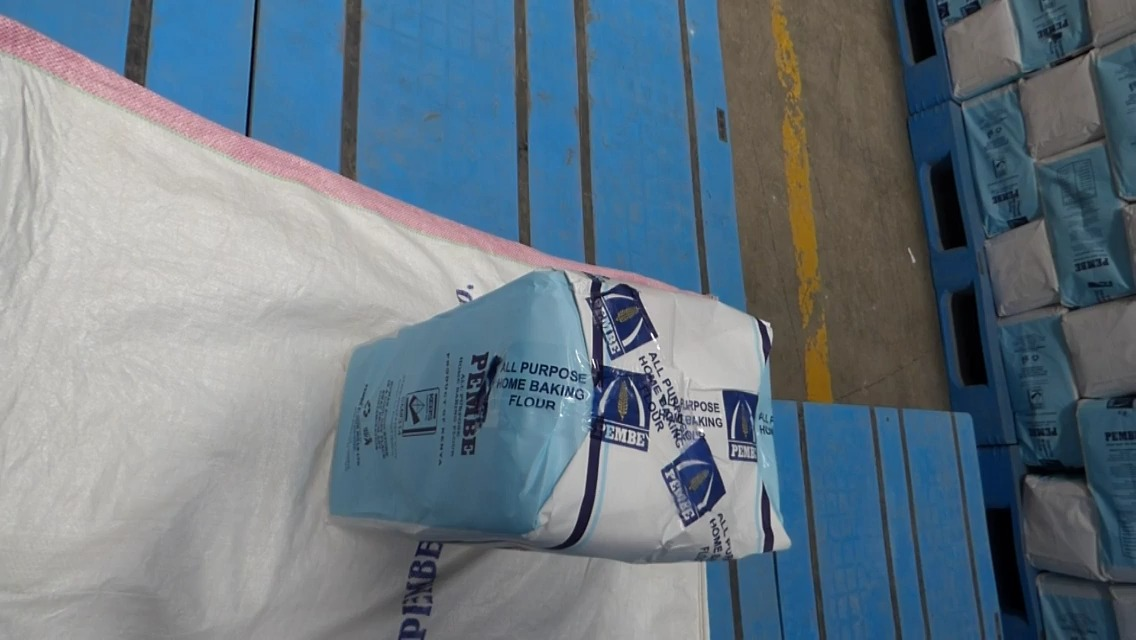wheat_flour_blue_label: (330, 271, 786, 560)
